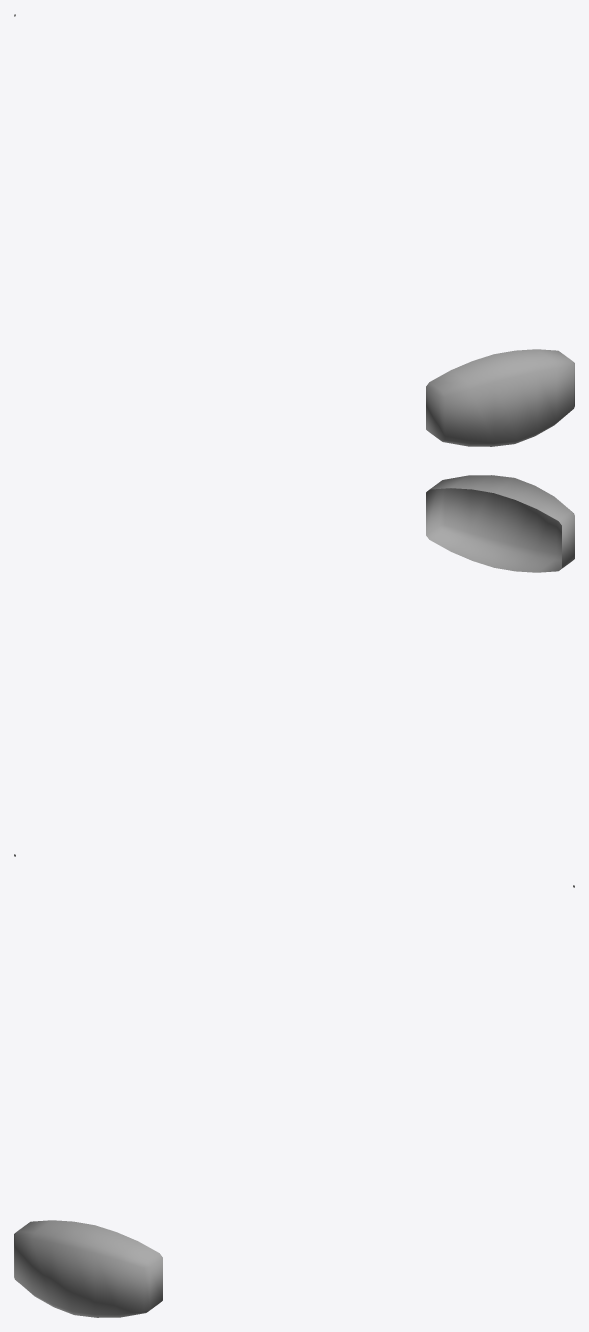
Rendered from AlarmClockButton_4_AlarmClockButton_4_1_GeomSubset_2.obj.
The picture shows the model from 3 angles, top to bottom: view 1: azimuth 30°, elevation 25°; view 2: azimuth 150°, elevation 25°; view 3: azimuth 330°, elevation 25°; orthographic projection.
Visible parts, largest first — view 1: AlarmClockButton_4_AlarmClockButton_4_1_GeomSubset_2; view 2: AlarmClockButton_4_AlarmClockButton_4_1_GeomSubset_2; view 3: AlarmClockButton_4_AlarmClockButton_4_1_GeomSubset_2.
Boxes of the visible parts, box(x1,y1,x2,y2) form: AlarmClockButton_4_AlarmClockButton_4_1_GeomSubset_2: box(14, 14, 574, 446); AlarmClockButton_4_AlarmClockButton_4_1_GeomSubset_2: box(14, 475, 574, 856); AlarmClockButton_4_AlarmClockButton_4_1_GeomSubset_2: box(14, 885, 574, 1317).
Bounding box in the file's own units: 0.0677 × 0.0355 × 0.4336.
